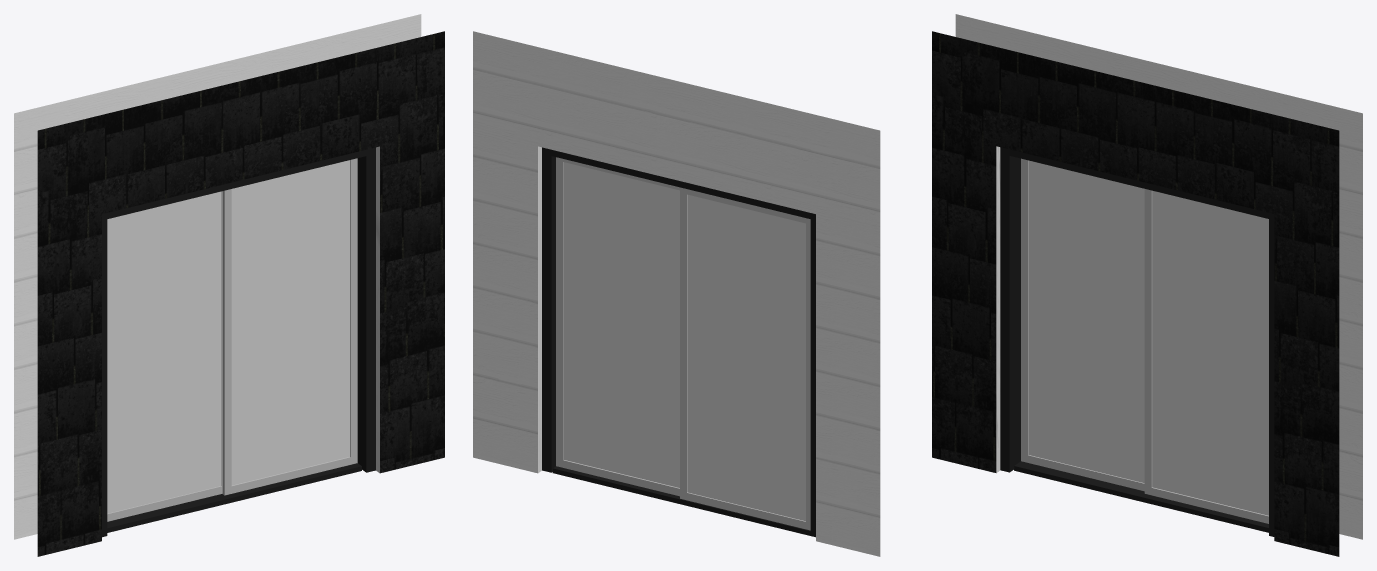
The model's file is SlidingDoor_Wall.fbx.
3 renders of one model, left to right at view 1: azimuth 30°, elevation 25°; view 2: azimuth 150°, elevation 25°; view 3: azimuth 330°, elevation 25°, orthographic.
Visible parts, largest first — view 1: DoubleDoor_Wall, SlidingDoor_R.002, SlidingDoor_L.002; view 2: DoubleDoor_Wall, SlidingDoor_L.002, SlidingDoor_R.002; view 3: DoubleDoor_Wall, SlidingDoor_R.002, SlidingDoor_L.002.
Part boxes in pixels (<box>): DoubleDoor_Wall: <box>14,14,444,556</box>; SlidingDoor_R.002: <box>222,158,357,495</box>; SlidingDoor_L.002: <box>107,191,222,521</box>; DoubleDoor_Wall: <box>473,31,880,556</box>; SlidingDoor_L.002: <box>680,187,810,530</box>; SlidingDoor_R.002: <box>556,157,679,496</box>; DoubleDoor_Wall: <box>932,14,1362,556</box>; SlidingDoor_R.002: <box>1144,189,1268,523</box>; SlidingDoor_L.002: <box>1021,158,1144,491</box>.
Bounding box in the file's own units: 300 × 301 × 30.
